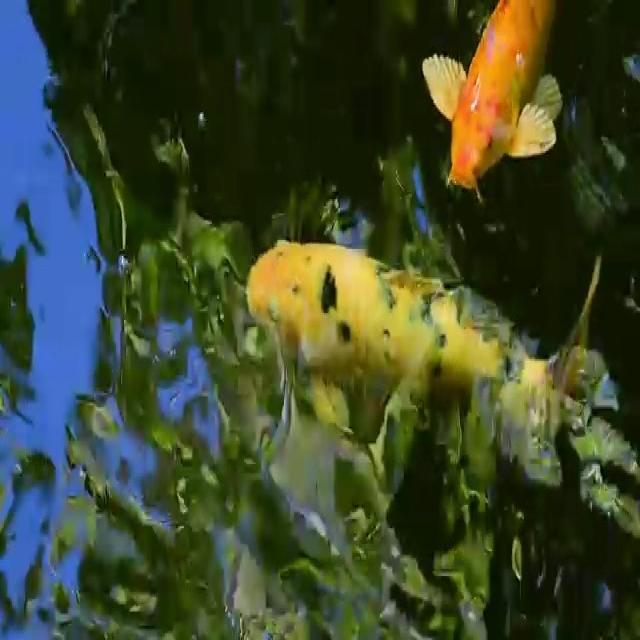fish: (244, 239, 613, 475), (416, 4, 566, 207)
